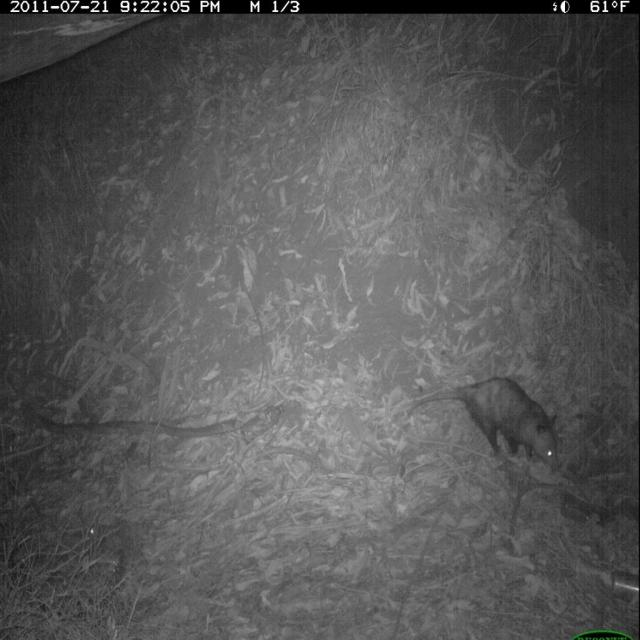opossum: (388, 367, 565, 482)
